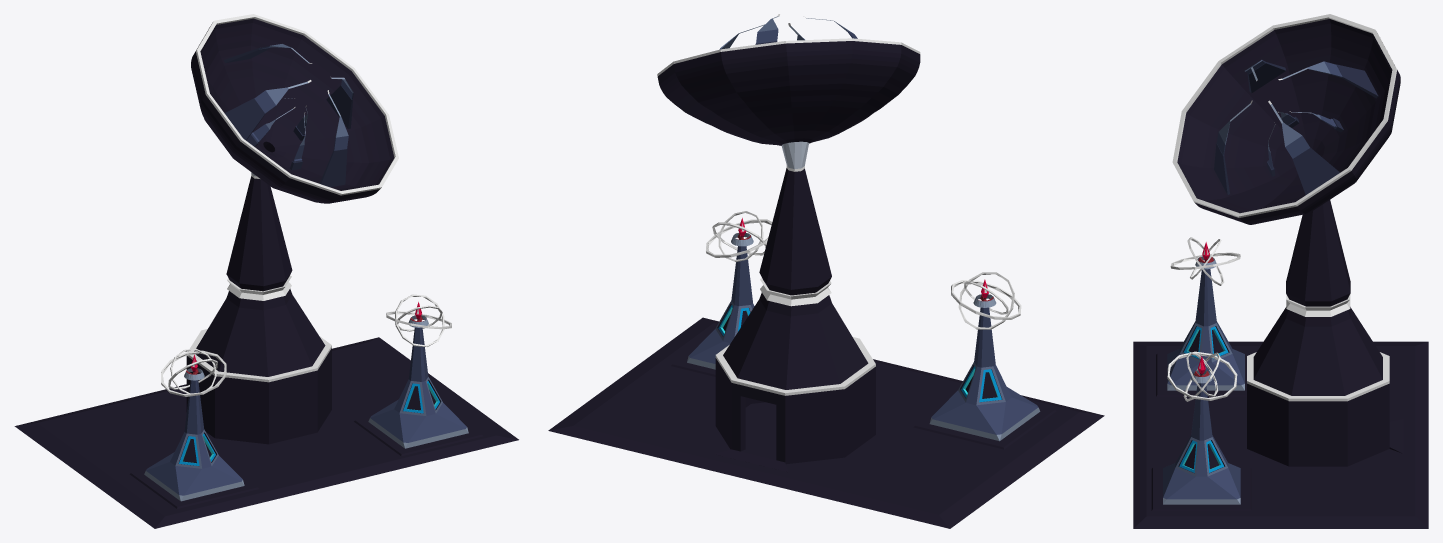
File: hub.fbx
3 views of the same model, side by side, from view 1: azimuth 30°, elevation 25°; view 2: azimuth 150°, elevation 25°; view 3: azimuth 270°, elevation 25° (orthographic). The views are drawn at different scales.
Parts seen in each view (by area): view 1: HubBuilding, Baseplate, LightPosts; view 2: HubBuilding, Baseplate, LightPosts; view 3: HubBuilding, Baseplate, LightPosts.
Boxes of the visible parts, box(x1,y1,x2,y2) form: HubBuilding: box(186, 14, 398, 444); Baseplate: box(14, 337, 518, 528); LightPosts: box(129, 294, 482, 508); HubBuilding: box(657, 14, 920, 472); Baseplate: box(548, 317, 1104, 528); LightPosts: box(671, 211, 1056, 449); HubBuilding: box(1172, 14, 1403, 466); Baseplate: box(1133, 341, 1428, 528); LightPosts: box(1151, 237, 1251, 510).
Size of the model in its own units: 15808 by 15803 by 10540.
